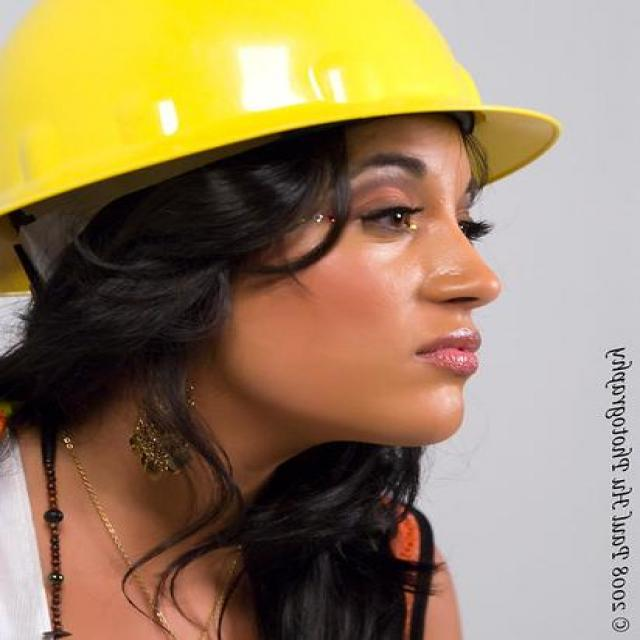Safety-Helmet: (6, 8, 569, 219)
